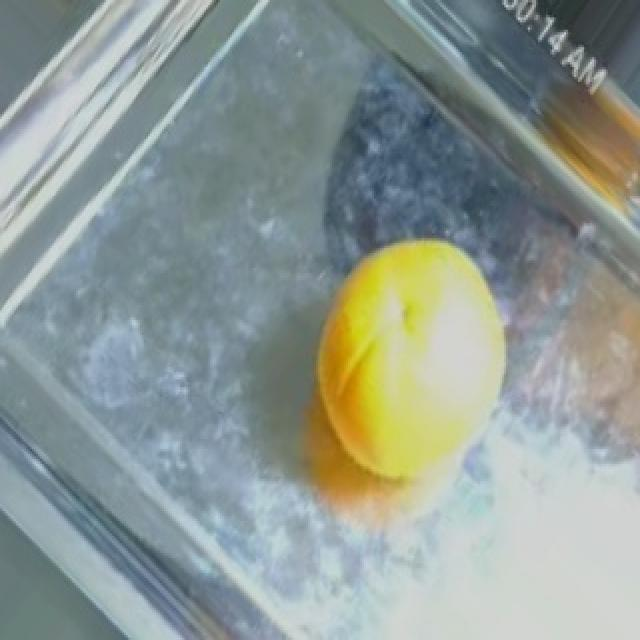Fruit: (288, 223, 530, 558), (538, 69, 640, 258)
